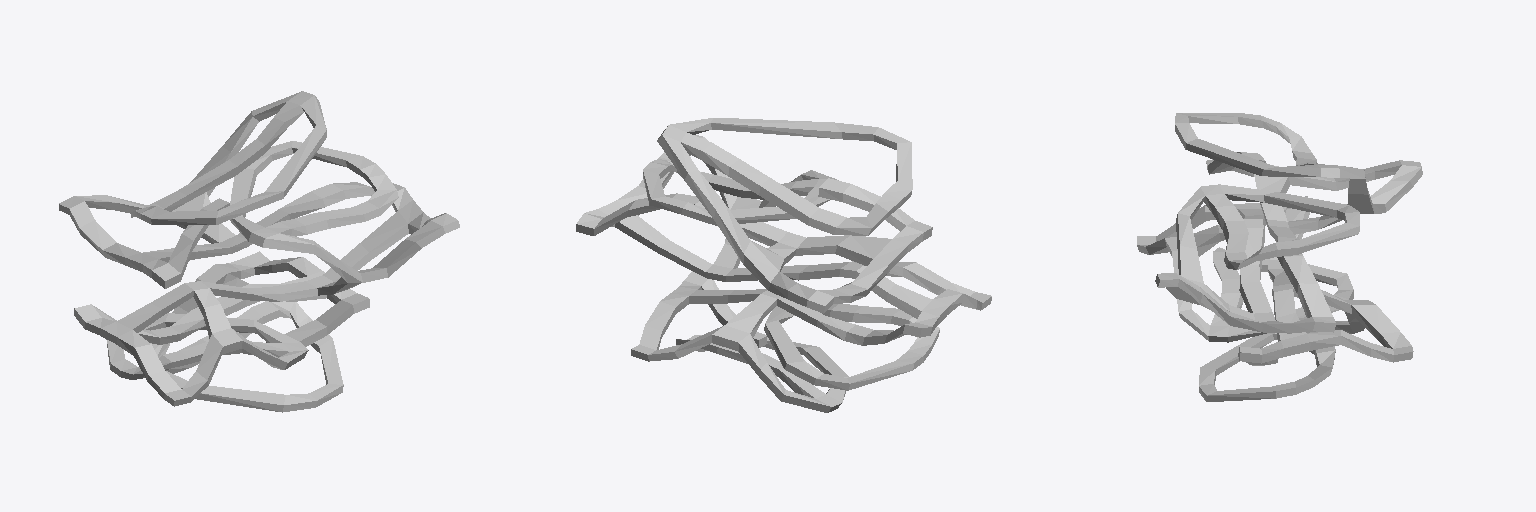
The model's file is Noodle.obj.
The picture shows the model from 3 angles: view 1: azimuth 30°, elevation 25°; view 2: azimuth 150°, elevation 25°; view 3: azimuth 270°, elevation 25°; orthographic projection.
Parts seen in each view (by area): view 1: Cube; view 2: Cube; view 3: Cube.
Part boxes in pixels (x1,y1,x2,y2): Cube: (59, 91, 459, 412); Cube: (576, 118, 991, 412); Cube: (1137, 113, 1422, 401).
Size of the model in its own units: 474 by 342 by 350.